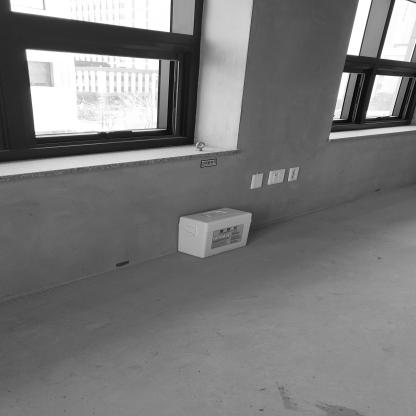DDL: (180, 208, 252, 259)
